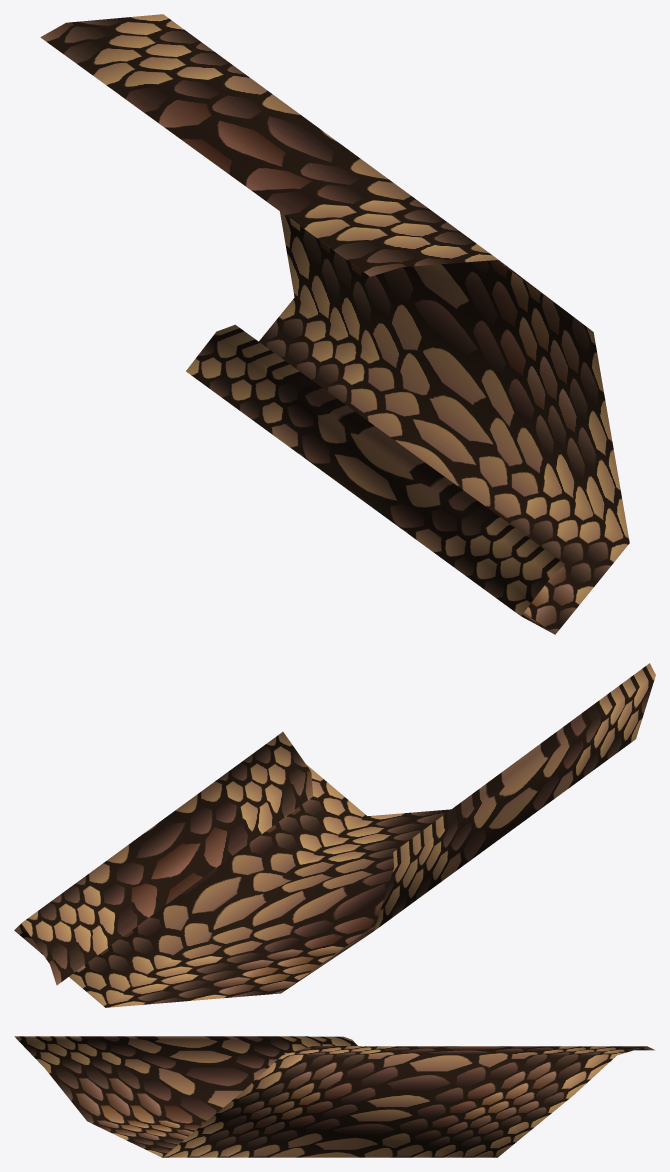
File: Snake_Skin.fbx
The picture shows the model from 3 angles, top to bottom: view 1: azimuth 30°, elevation 25°; view 2: azimuth 150°, elevation 25°; view 3: azimuth 270°, elevation 25°; orthographic projection. The views are drawn at different scales.
Visible parts, largest first — view 1: SnakeSkin; view 2: SnakeSkin; view 3: SnakeSkin.
Boxes of the visible parts, x1,y1,x2,y2 form: SnakeSkin: (40, 14, 629, 634); SnakeSkin: (14, 663, 655, 1007); SnakeSkin: (14, 1036, 654, 1157).
Size of the model in its own units: 9.26 by 6.6 by 38.6.
